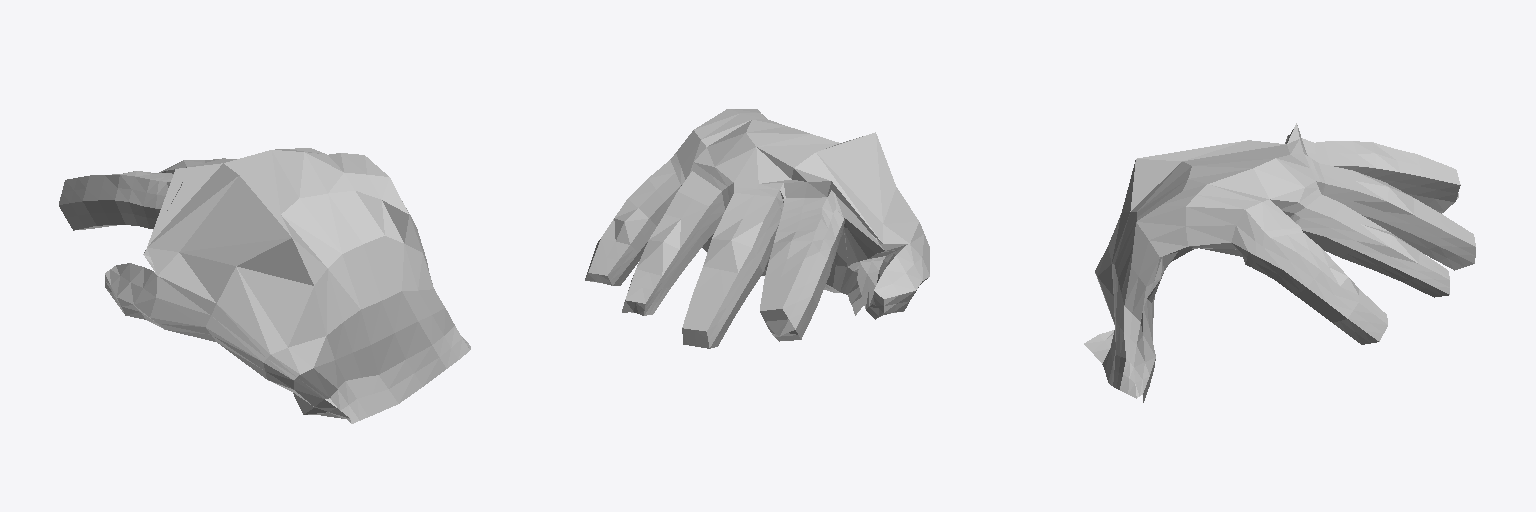
Rendered from flexion0051.obj.
3 views of the same model, side by side, from view 1: azimuth 30°, elevation 25°; view 2: azimuth 150°, elevation 25°; view 3: azimuth 270°, elevation 25° (orthographic).
Parts seen in each view (by area): view 1: Hand; view 2: Hand; view 3: Hand.
Boxes of the visible parts, box(x1,y1,x2,y2) form: Hand: box(59, 148, 470, 423); Hand: box(585, 109, 929, 348); Hand: box(1084, 123, 1475, 402).
Size of the model in its own units: 3.27 by 2.28 by 3.87.